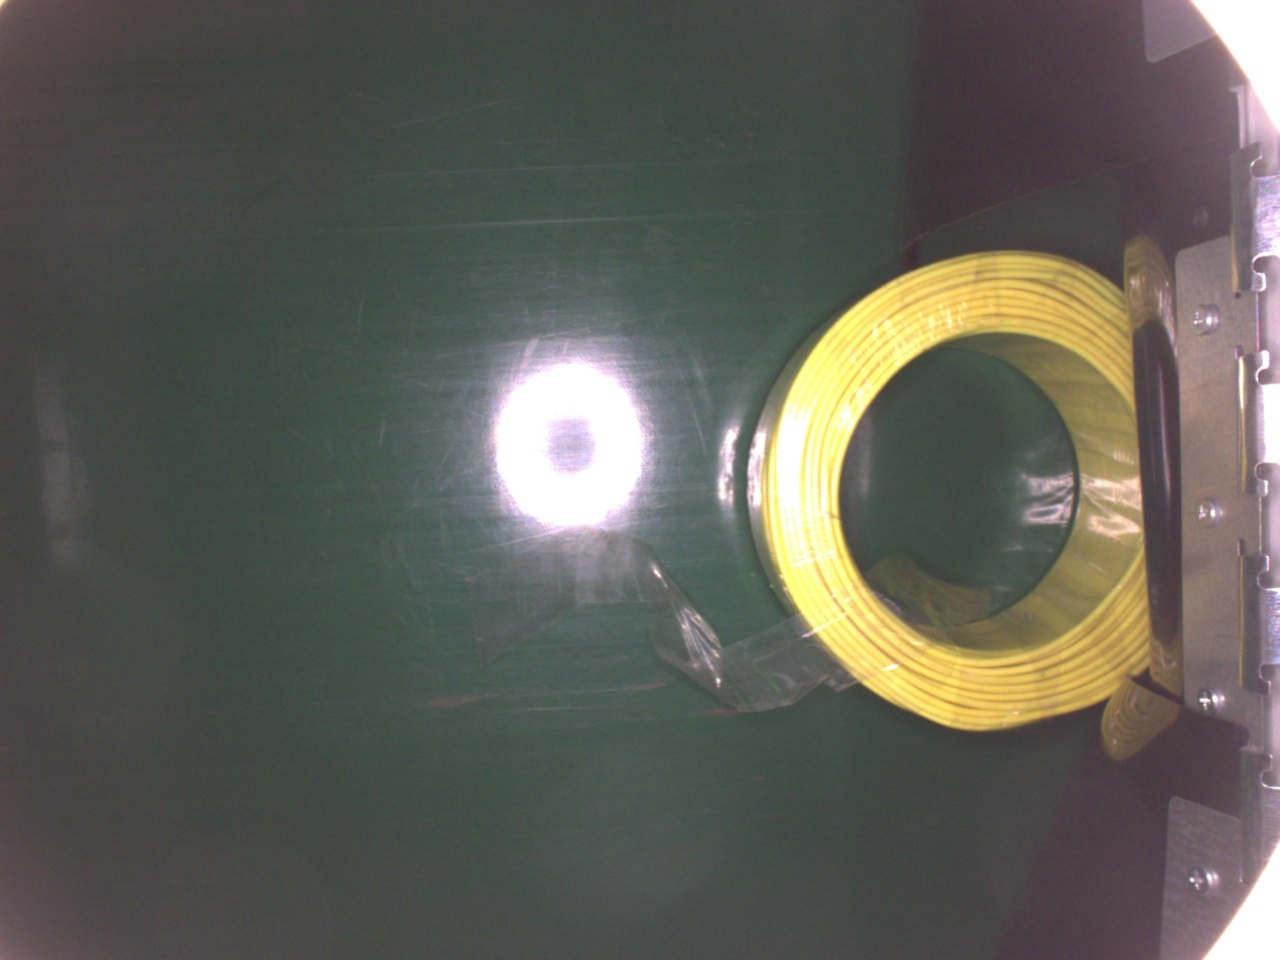yellow: (748, 246, 1154, 726)
